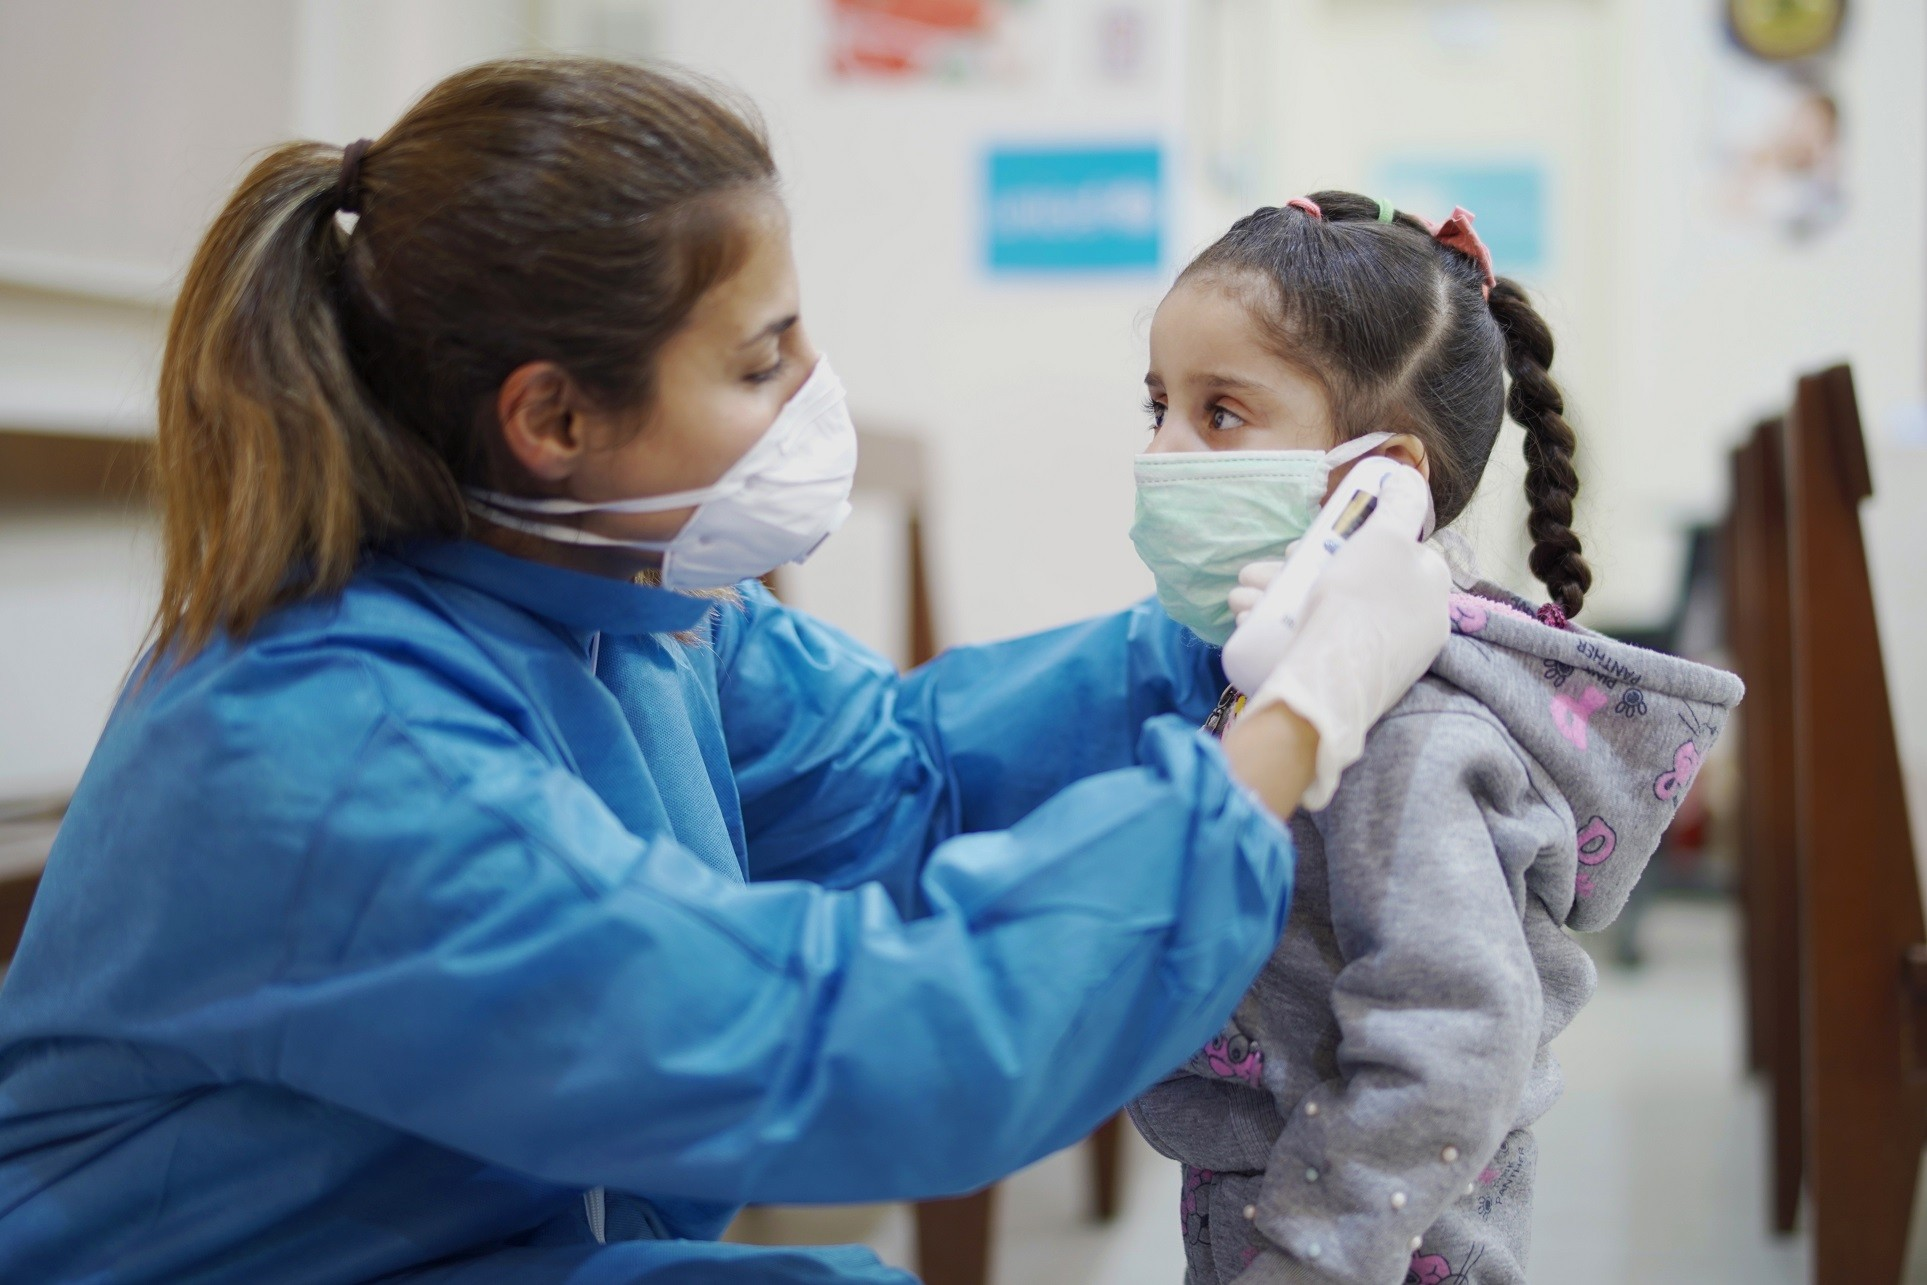Coverall: (1, 537, 1244, 1285)
Gloves: (1242, 456, 1459, 821)
with_mask: (650, 277, 855, 602), (1119, 327, 1325, 646)
